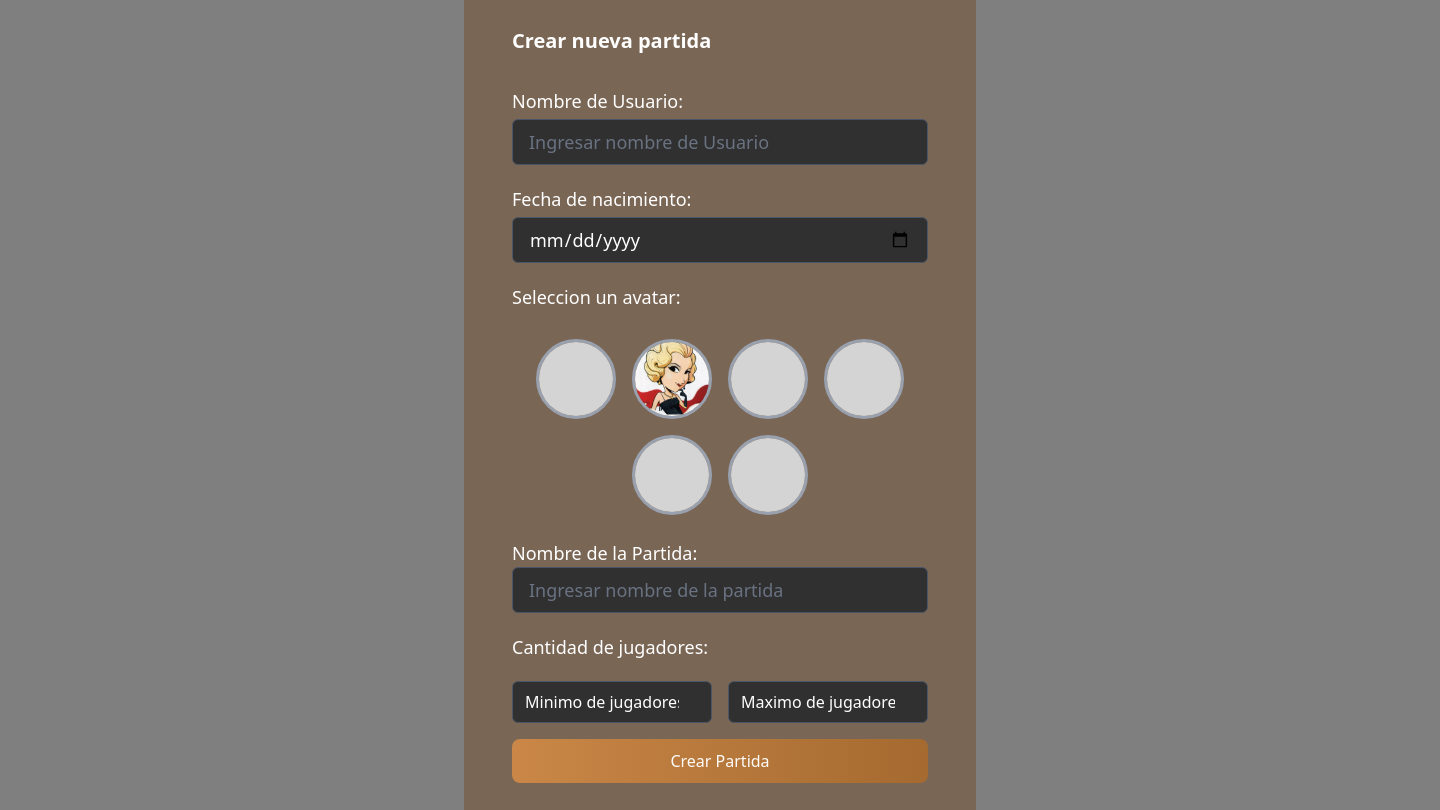
Scenario: CreateFormGame - funcionalidades de los elementos › no permite escribir más de 35 caracteres en el Nombre de Usuario
Type "ABCDEFGHIJKLMNOPQRSTUVWXYZABCDEFGHIJKLMNOPQRSTUVWXYZ" into the field labelled "Nombre de Usuario:".
click(720, 142); type("ABCDEFGHIJKLMNOPQRSTUVWXYZABCDEFGHIJKLMNOPQRSTUVWXYZ")  # box [512,119,928,165]
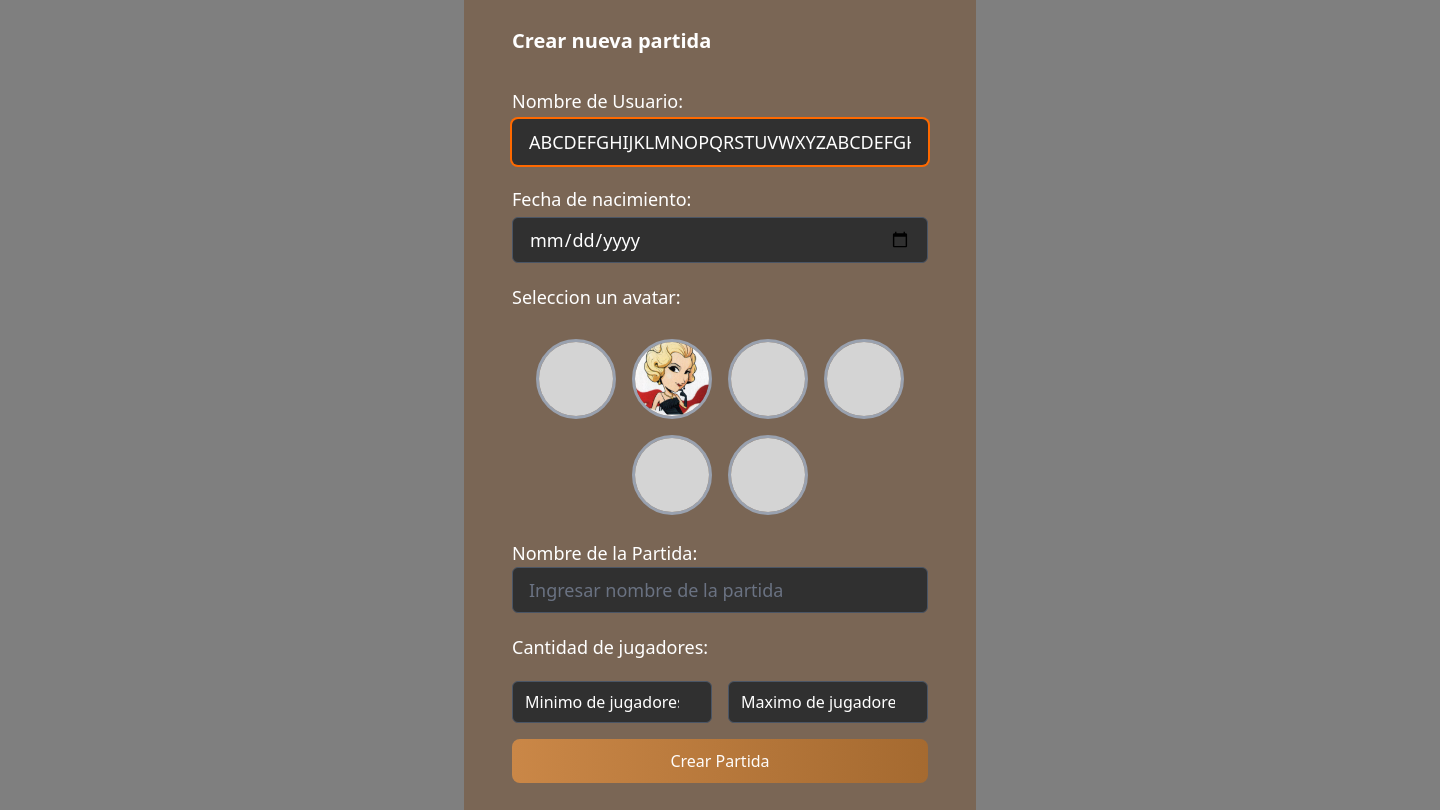
Check: the field labelled "Nombre de Usuario:" holds "ABCDEFGHIJKLMNOPQRSTUVWXYZABCDEFGHI", box [512,119,928,165]
